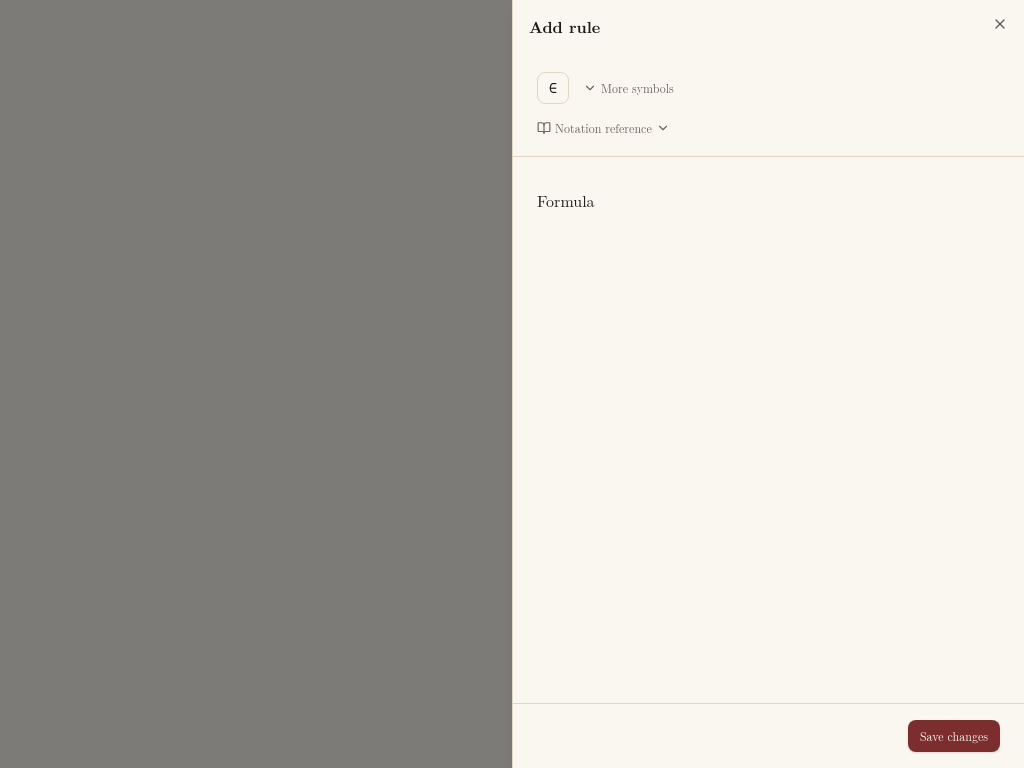
Test: EditSheet authoring aids › keeps only one aid open, so the form is never starved of room
This screenshot has width=1024, height=768.
Click the button "More symbols" at [628, 88], box x1=575 y1=72 x2=682 y2=104
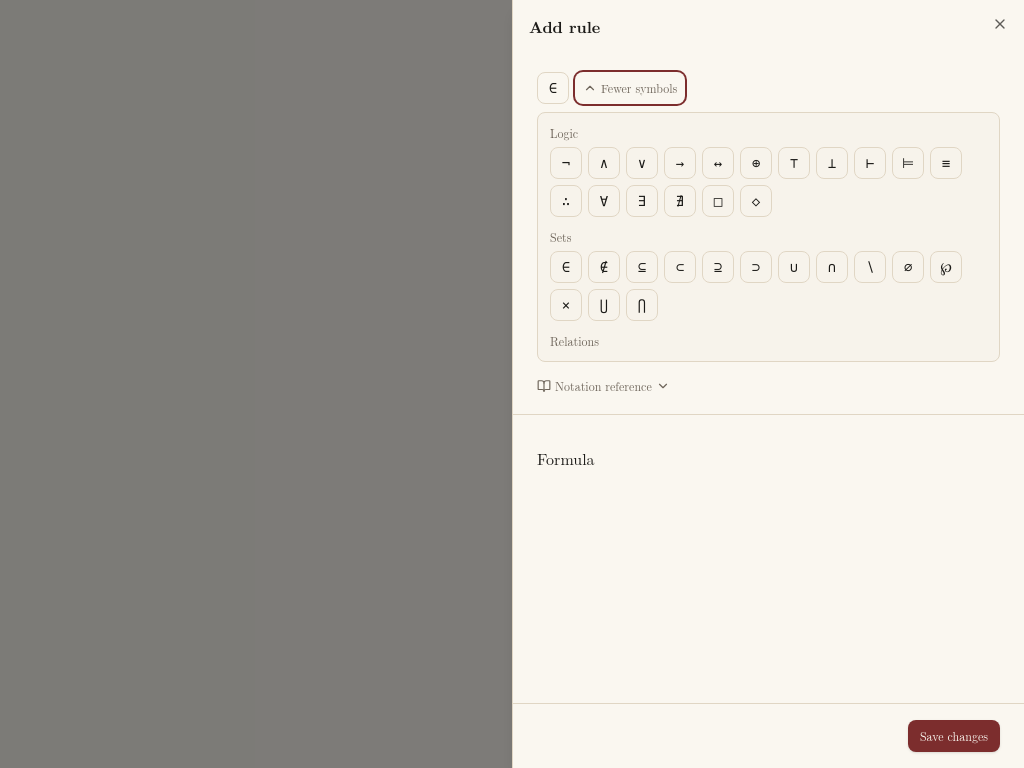
Result: the element named "Symbol catalogue" is shown at x1=550 y1=125 x2=987 y2=349
Click the button "Notation reference" at [603, 386], box x1=537 y1=370 x2=670 y2=402
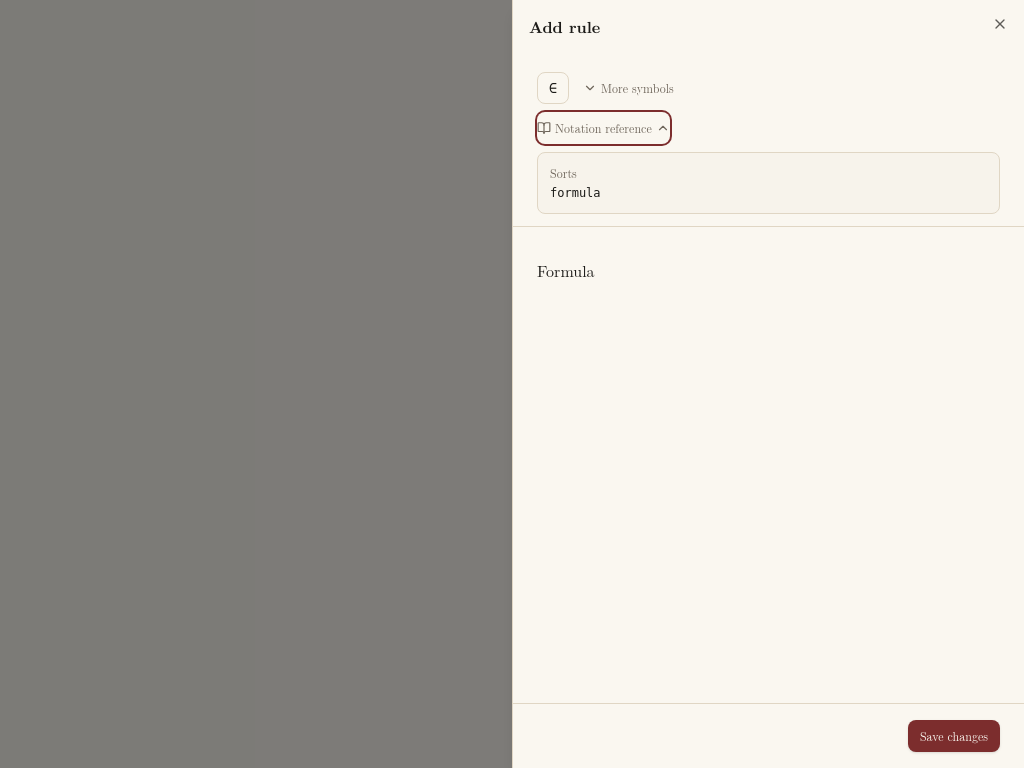
Result: the button "Notation reference" is expanded at x1=537 y1=112 x2=670 y2=144
// …and back the other way.
Click the button "More symbols" at [628, 88], box x1=575 y1=72 x2=682 y2=104
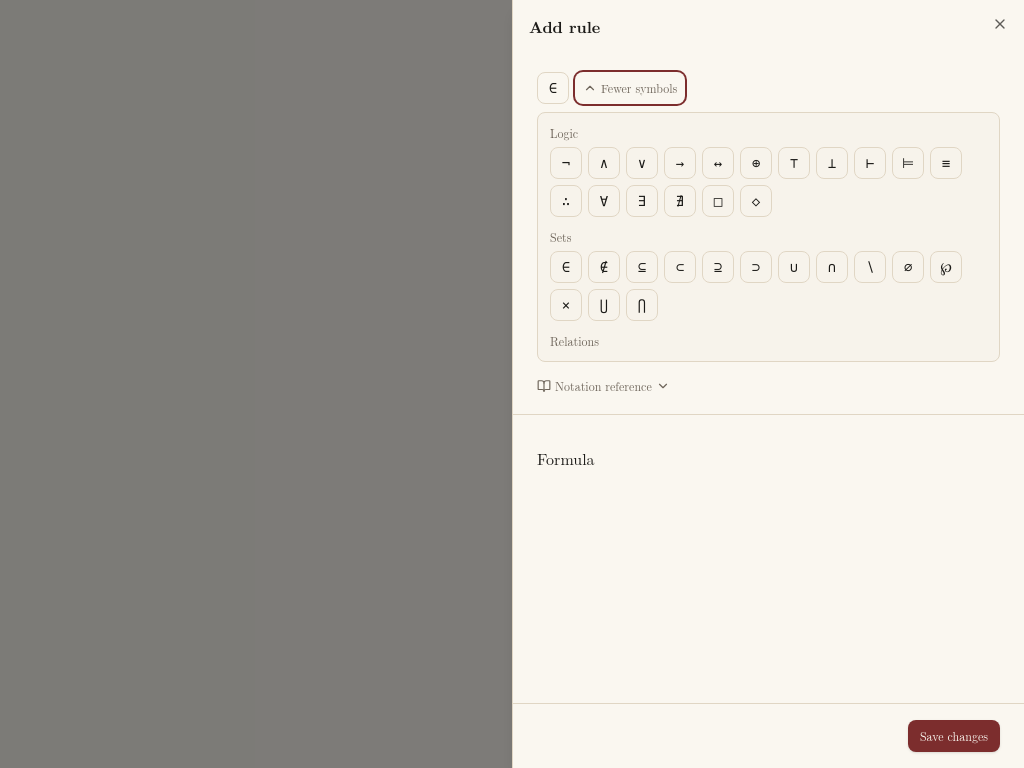
Result: the element named "Symbol catalogue" is shown at x1=550 y1=125 x2=987 y2=349
Result: the button "Notation reference" is collapsed at x1=537 y1=370 x2=670 y2=402
